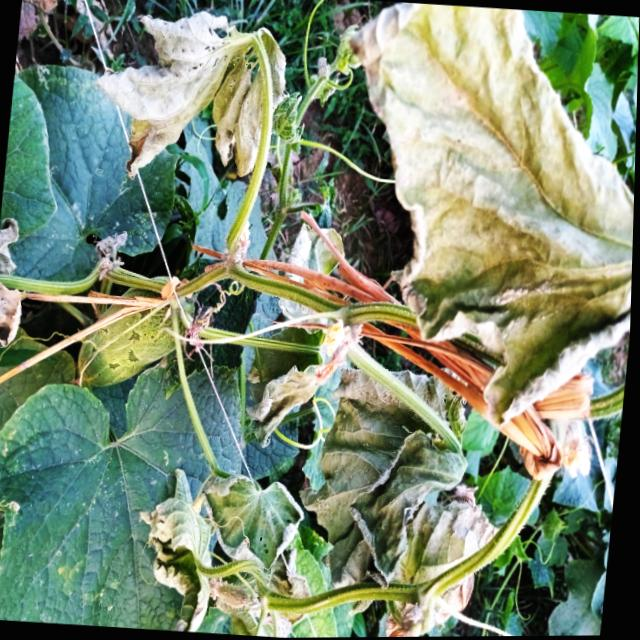Bacterial-Wilt: (336, 5, 635, 433), (95, 8, 290, 184)
